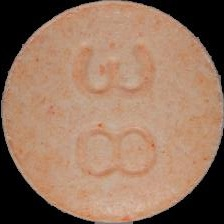68071-2055: (0, 0, 224, 224)
